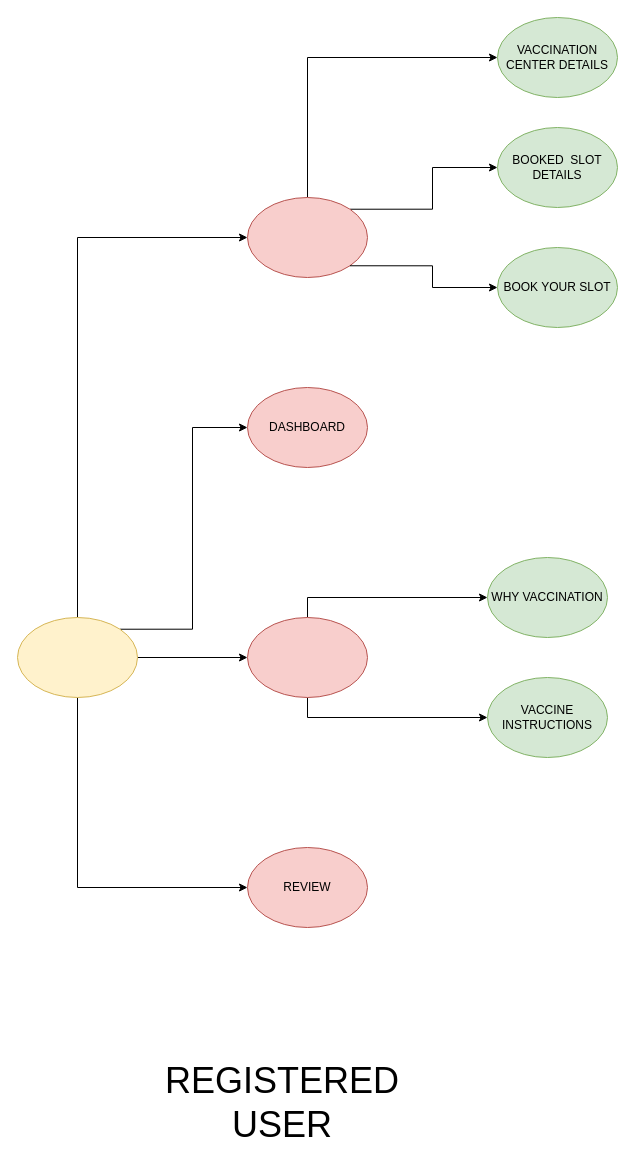
This 635x1163 diagram has some shape labels left out. Here are the shapes that lost their labels. From the top down, the centre of each, then its label:
At point (307, 237): "VACCINATION SERVICES".
At point (77, 657): "HOME".
At point (307, 657): "RESOURCES".
